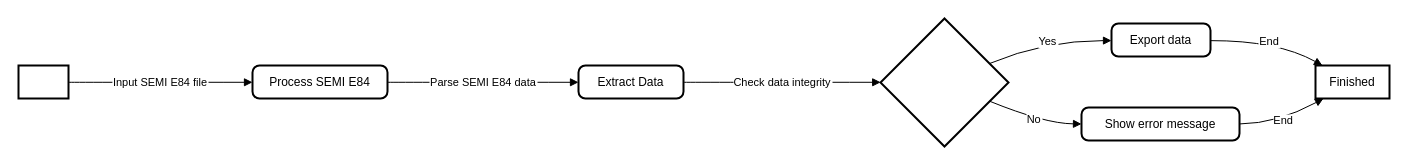
Some shapes in this 1407 by 164 pixel diagram are drawn without their labels. Each missing label, with the centre of its shape:
"Start" goes at pixel 43 81.
"Valid Data?" goes at pixel 944 82.
